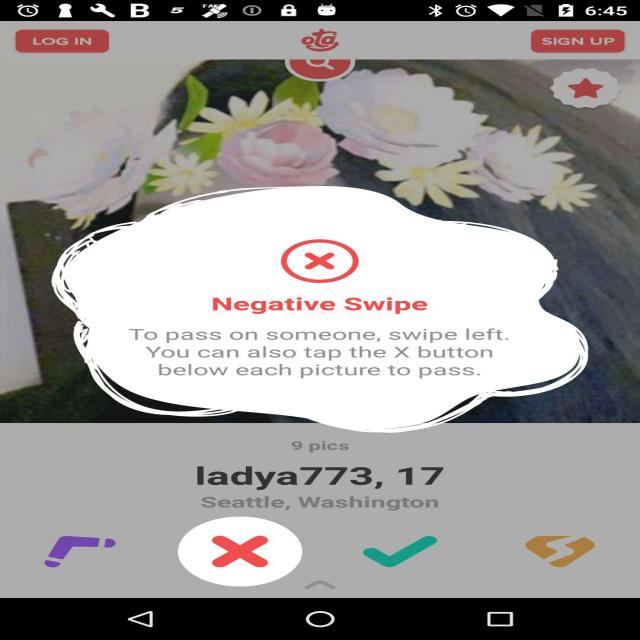button: (162, 519, 311, 583), (264, 46, 389, 106), (23, 524, 145, 583), (340, 522, 460, 574), (491, 534, 638, 575), (503, 67, 640, 110), (508, 29, 640, 58), (10, 31, 127, 54)
icon: (246, 232, 408, 288), (268, 18, 398, 56)
text: (97, 316, 547, 392), (142, 427, 514, 515), (186, 288, 464, 316)
